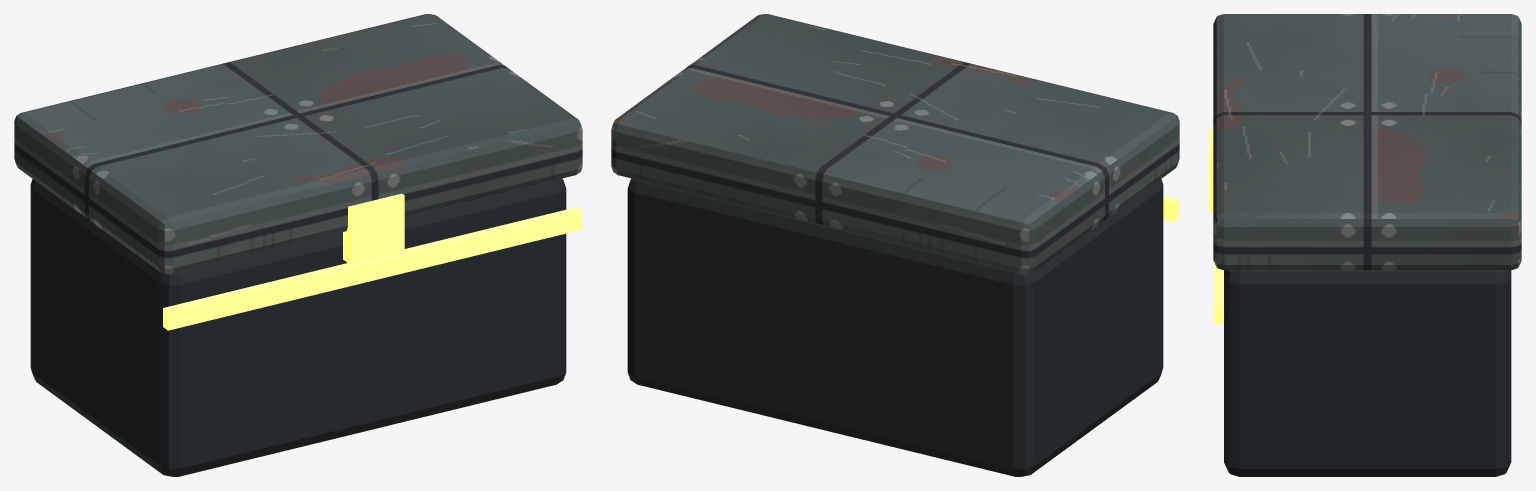
File: loot_chest.glb
3 views of the same model, side by side, from view 1: azimuth 30°, elevation 25°; view 2: azimuth 150°, elevation 25°; view 3: azimuth 270°, elevation 25° (orthographic).
Visible parts, largest first — view 1: loot_chest; view 2: loot_chest; view 3: loot_chest.
Boxes of the visible parts, box(x1,y1,x2,y2) form: loot_chest: box(14, 14, 582, 476); loot_chest: box(611, 14, 1179, 476); loot_chest: box(1208, 14, 1521, 476).
Size of the model in its own units: 0.94 by 0.57 by 0.6.
3 materials, 1 textured.
